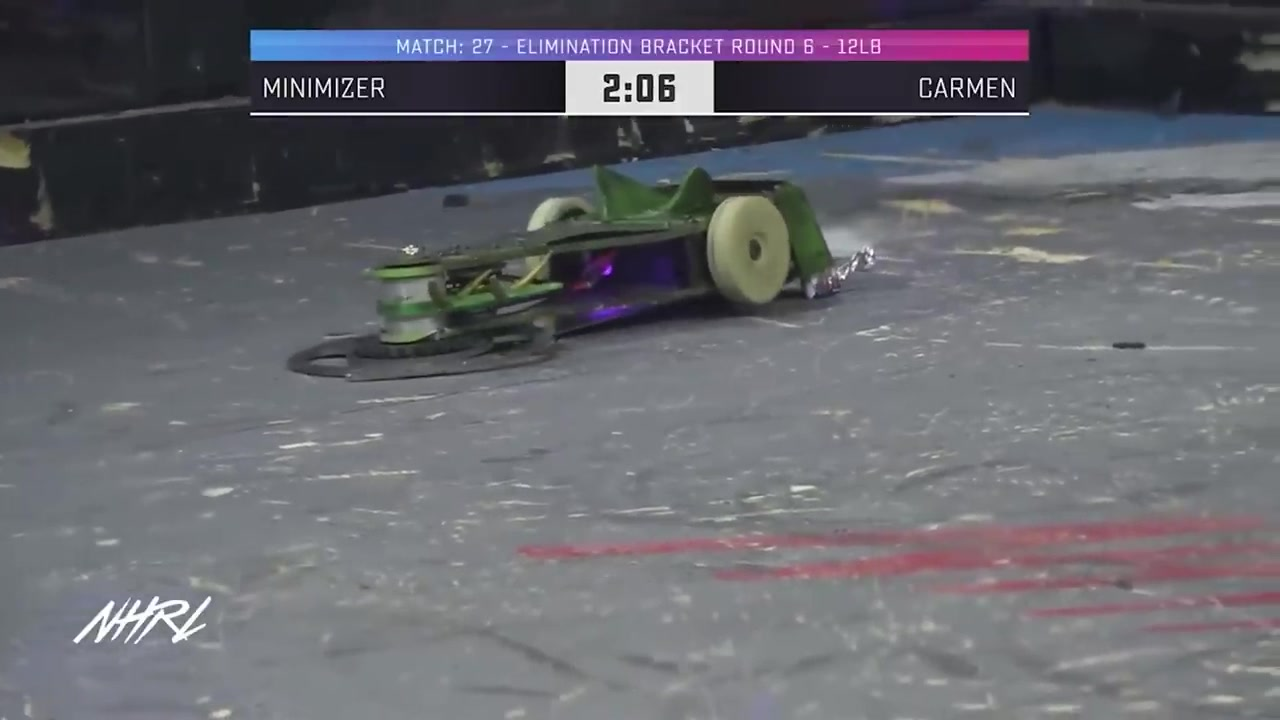combatbot: (287, 163, 875, 385)
